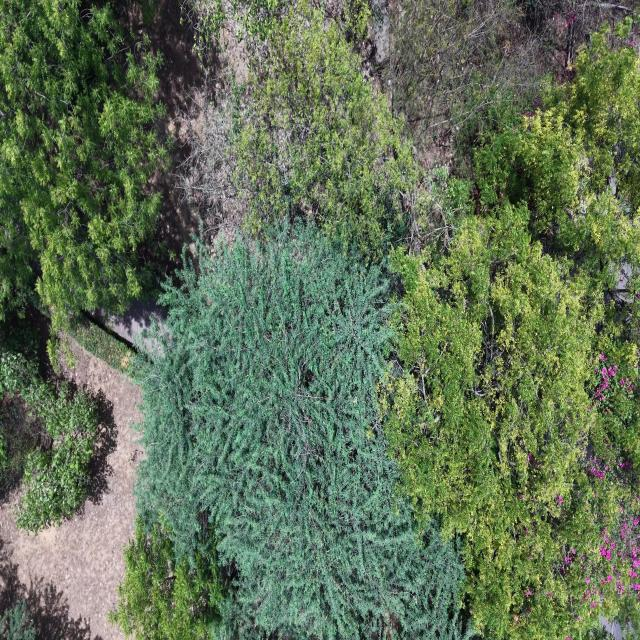DRY_AREA: (0, 339, 142, 639)
VEGETATION_TREE: (0, 0, 639, 639), (137, 8, 639, 639), (138, 12, 462, 637), (381, 21, 639, 638), (137, 226, 463, 638), (381, 204, 639, 637), (181, 9, 423, 259), (0, 0, 166, 323), (233, 10, 419, 253), (382, 0, 632, 174), (475, 21, 639, 254), (383, 0, 549, 169), (0, 332, 98, 533), (551, 19, 639, 217), (110, 522, 222, 639), (16, 382, 97, 532), (177, 80, 246, 242), (181, 0, 310, 52), (395, 166, 472, 252), (47, 313, 136, 374), (181, 0, 284, 52), (66, 315, 134, 374), (0, 600, 35, 639)
